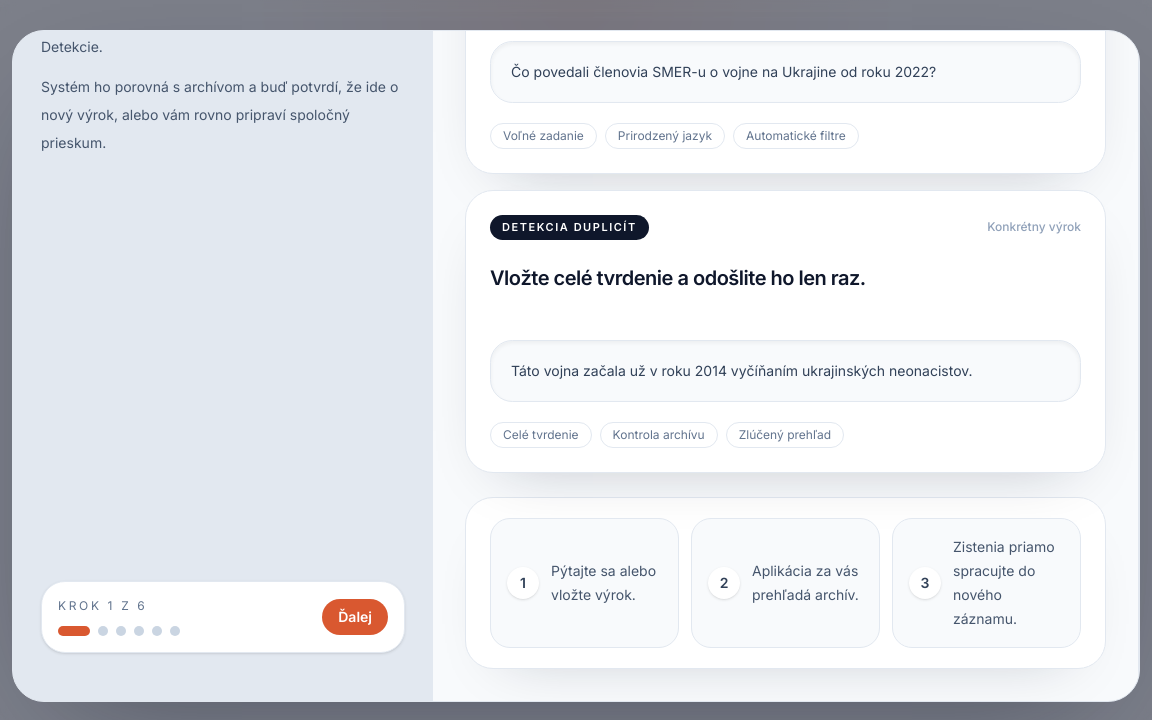
HomeOnboarding › stores completion on the last step
The width and height of the screenshot is (1152, 720).
(page scrolled)
Click the button "Ďalej" at coordinates (355, 616), box [322, 598, 388, 634]
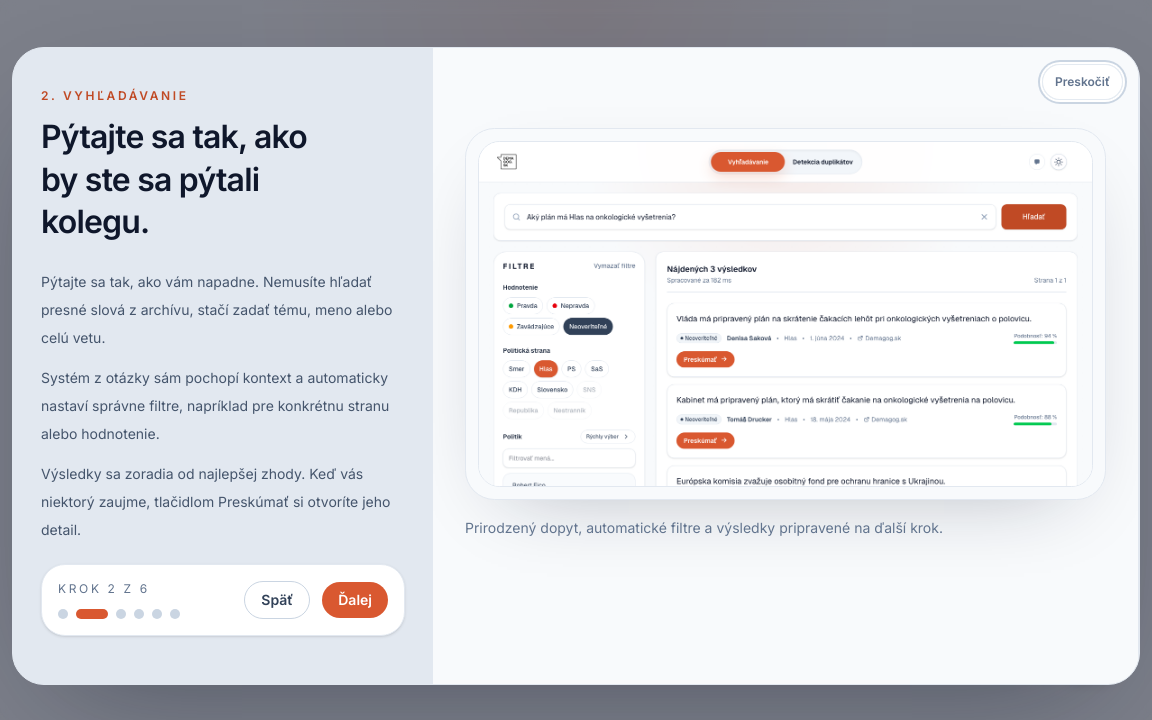
Click the button "Ďalej" at coordinates (355, 600), box [322, 582, 388, 618]
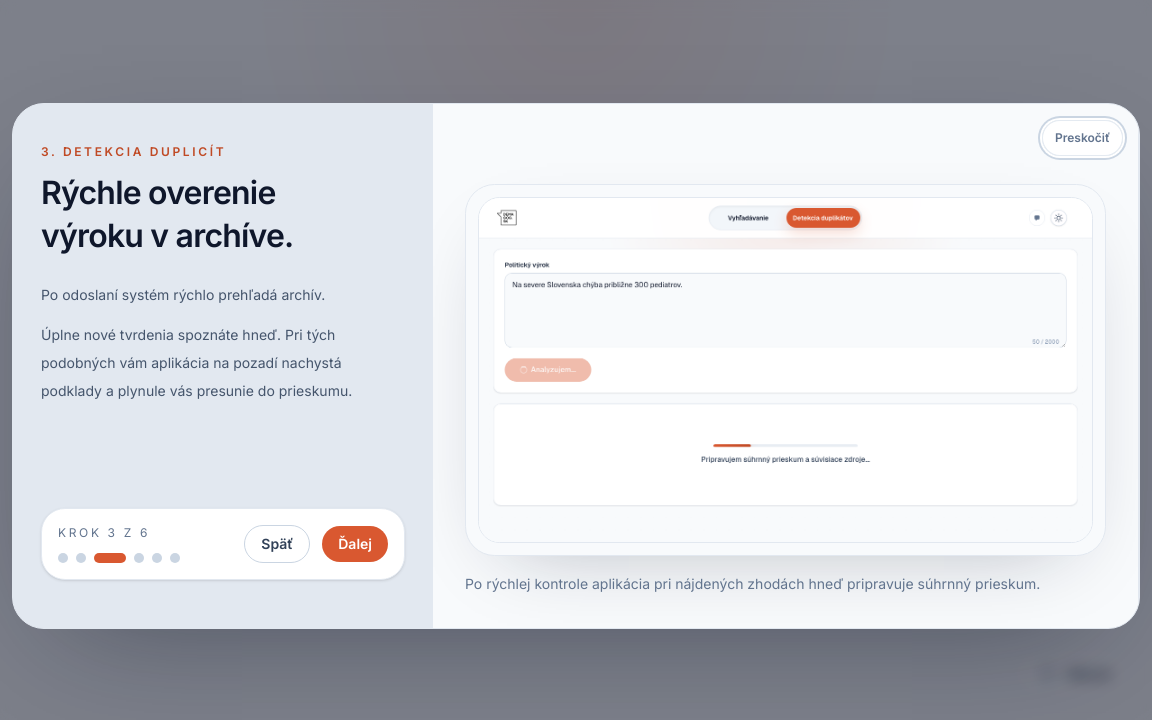
Click the button "Ďalej" at coordinates (355, 544), box [322, 526, 388, 562]
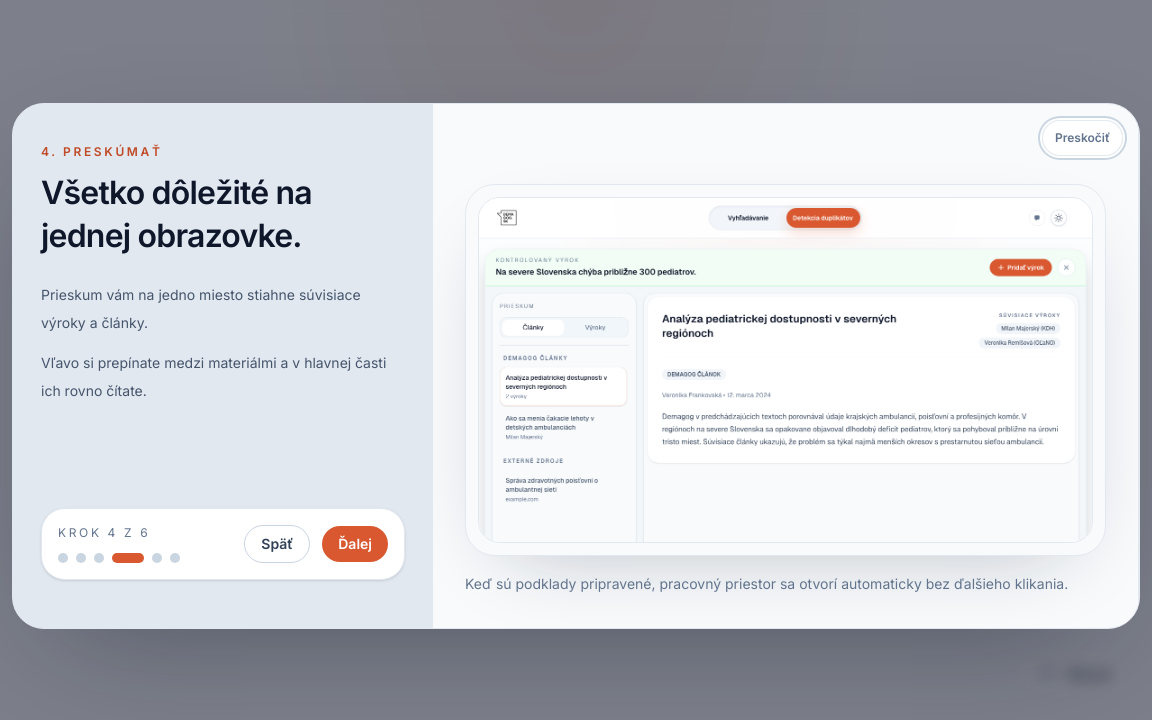
Click the button "Ďalej" at coordinates (355, 544), box [322, 526, 388, 562]
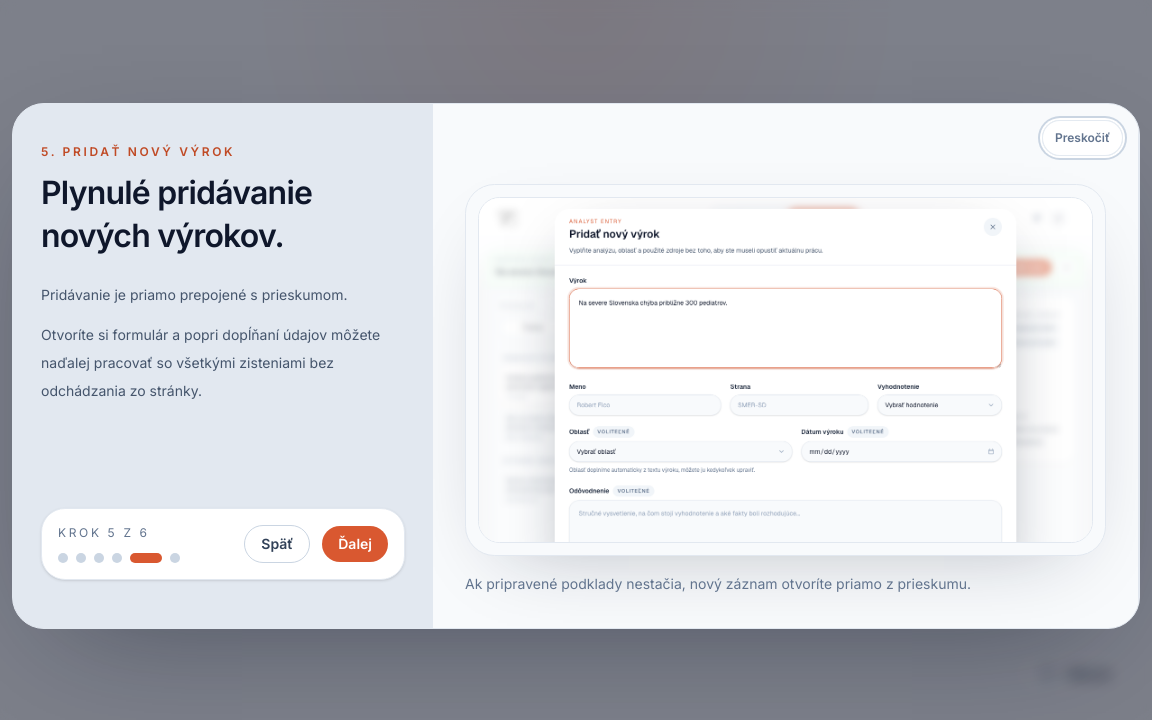
Click the button "Ďalej" at coordinates (355, 544), box [322, 526, 388, 562]
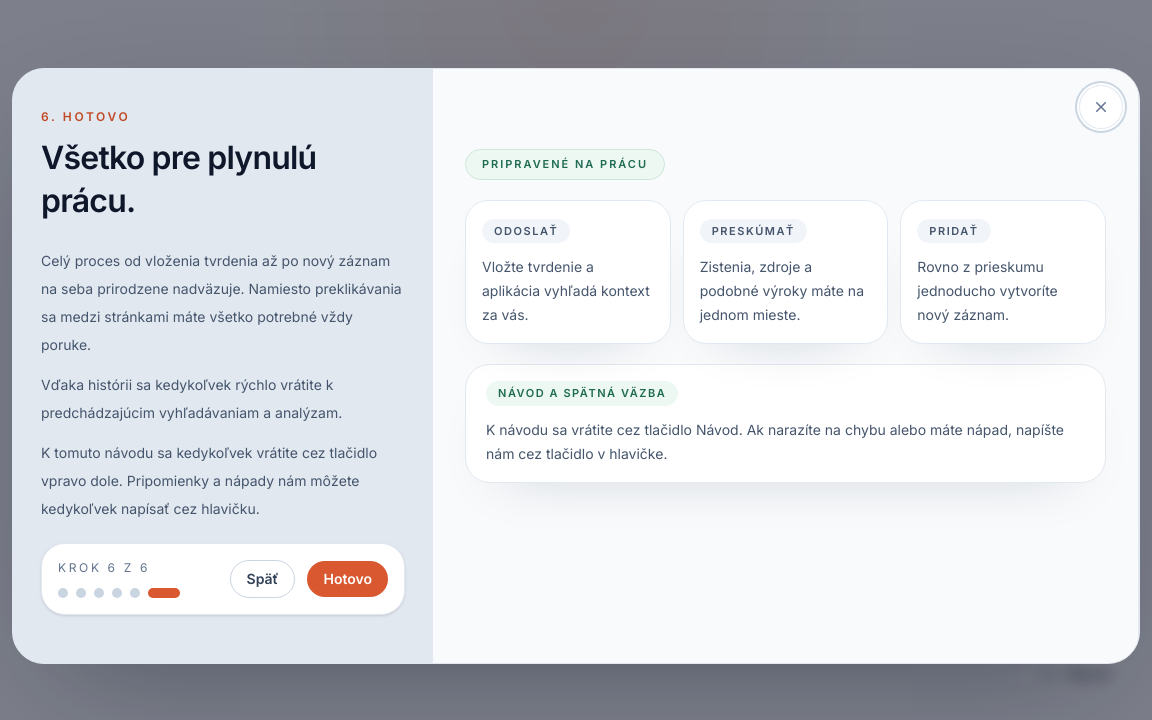
Click the button "Hotovo" at coordinates (348, 579), box [308, 561, 388, 597]
Wait 30000 ms
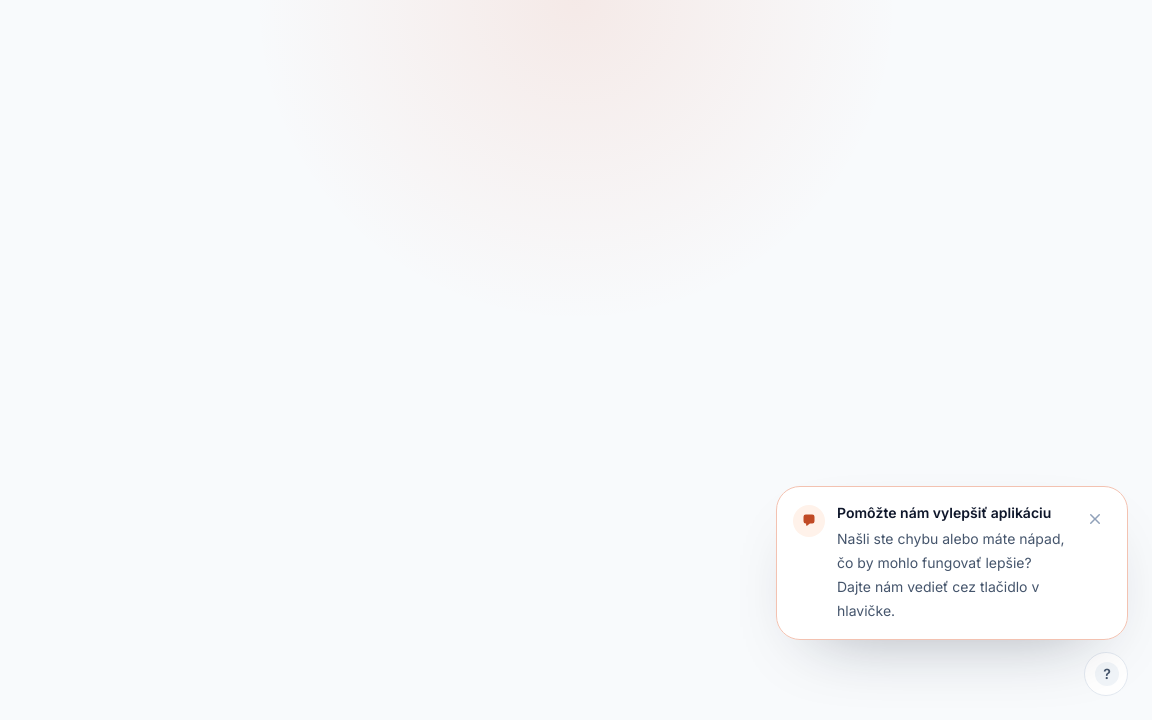
expect the dialog is gone: met
expect the text "Pomôžte nám vylepšiť aplikáciu" is shown: met, box [837, 503, 1067, 523]
